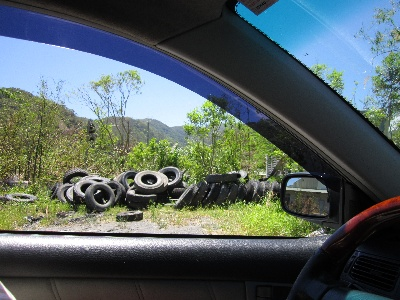tire: (85, 182, 116, 212), (132, 170, 165, 193), (114, 210, 145, 221), (207, 172, 238, 183), (253, 179, 264, 207)
